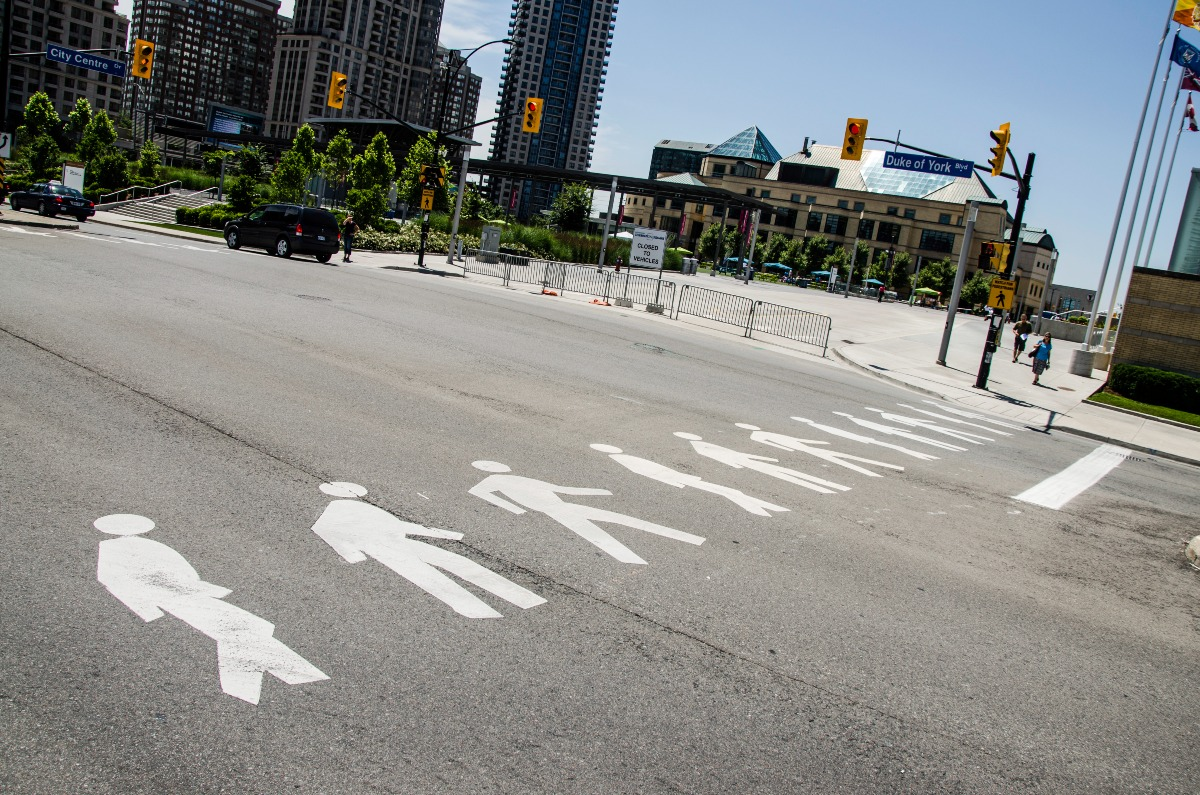Car: (210, 201, 343, 264), (2, 176, 102, 223)
